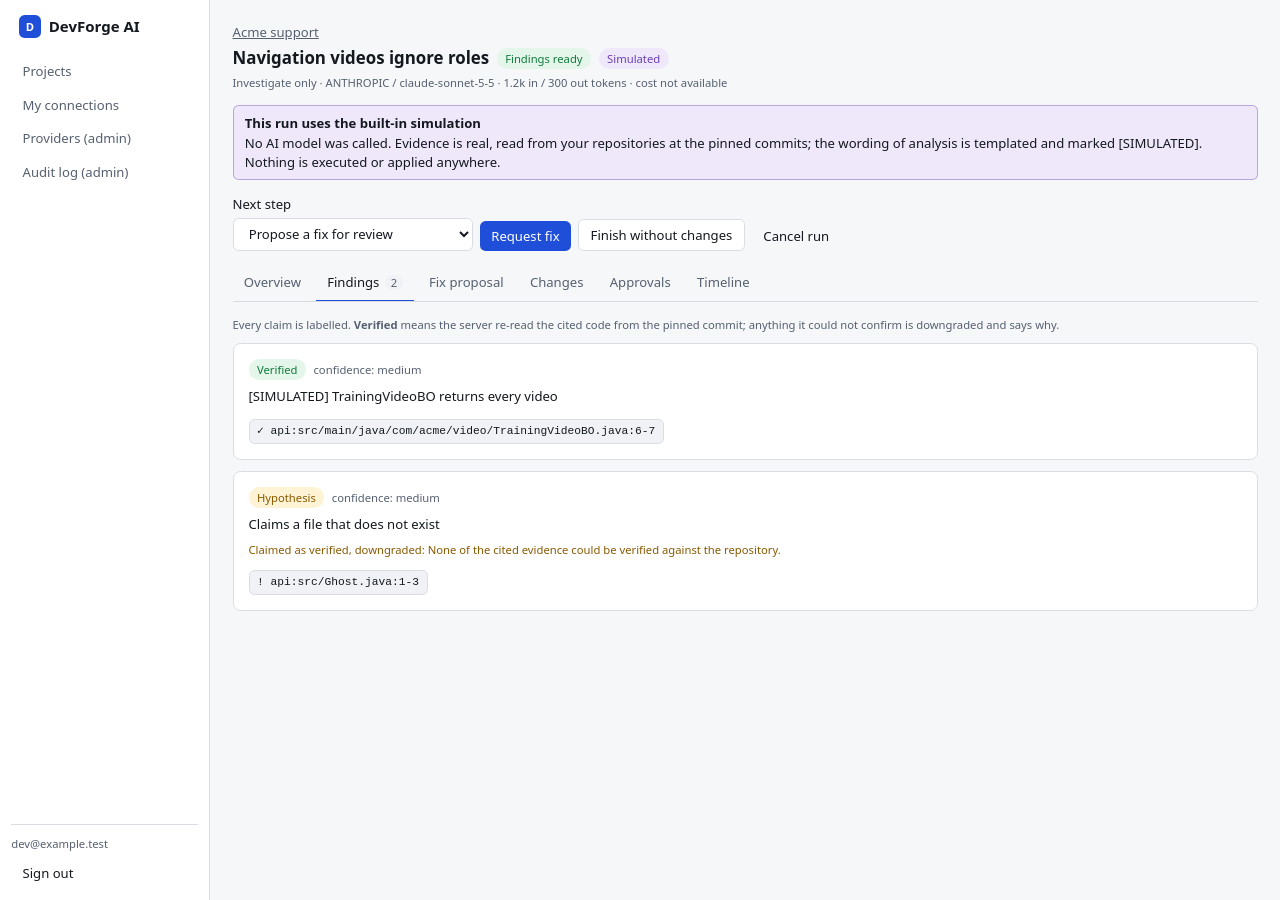
Test: Run page › labels every finding and opens the cited code with its verification status
Expected: the 2nd text titled "backed by code the server re-read" reads "Verified", [257,362,298,377]
Expected: the text titled "a guess; not confirmed" reads "Hypothesis", [257,490,316,505]
What coordinates should you click on to do the following:
click the button named "confirmed: api:src/main/java/com/acme/video/trainingvideobo.java:6-7"
I would click on:
 (456, 432)
Its box is [248,419,664,444].
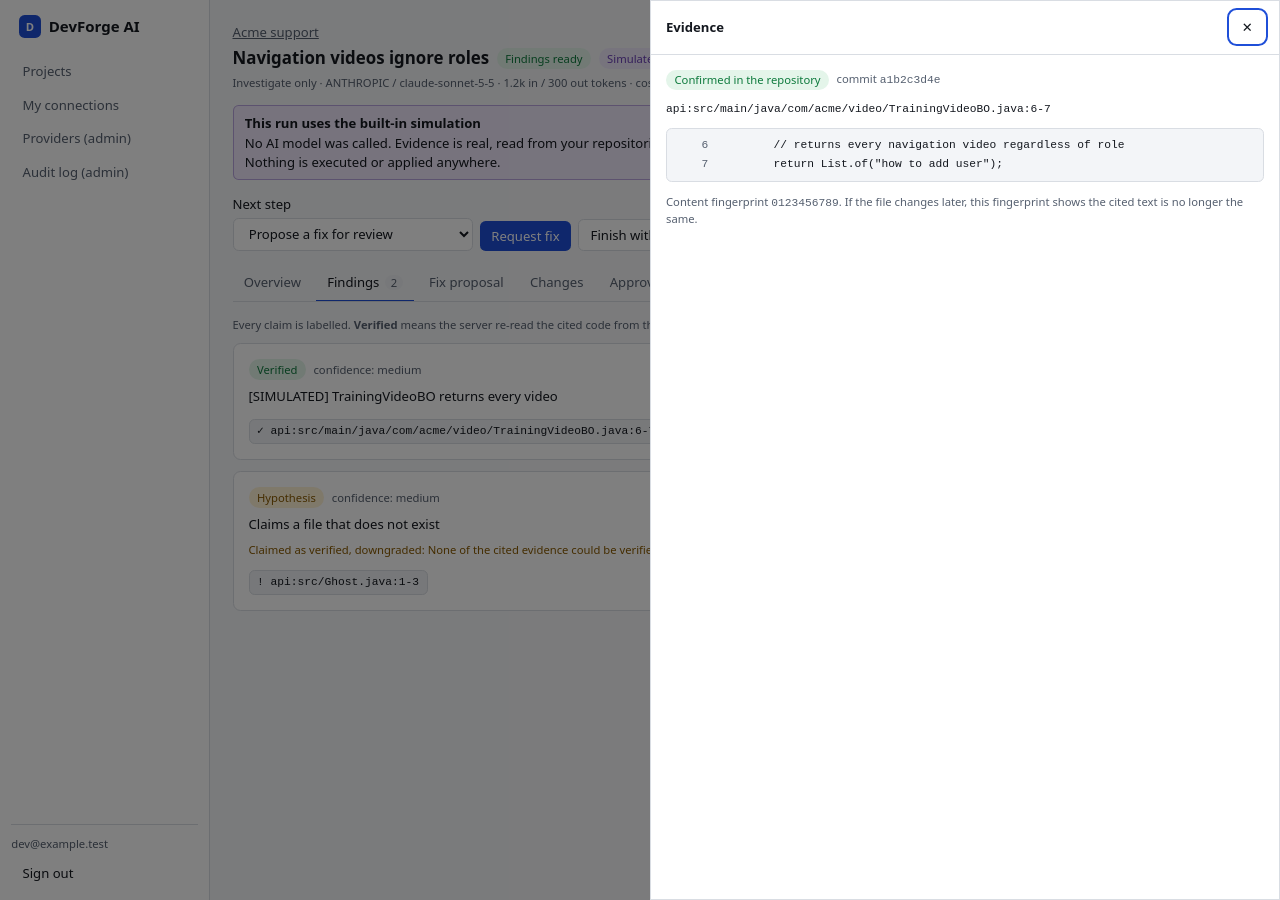
Now the text "Confirmed in the repository" is shown, box [666,70,829,90]
Now the text "6 // returns every navigation video regardless of role" is shown, box [702,139,1125,151]
Now the text "6" is shown, box [702,139,708,151]
What coordinates should you click on to do the following:
click the button named "Close"
I would click on:
 (1247, 27)
Its box is [1230,12,1264,42].
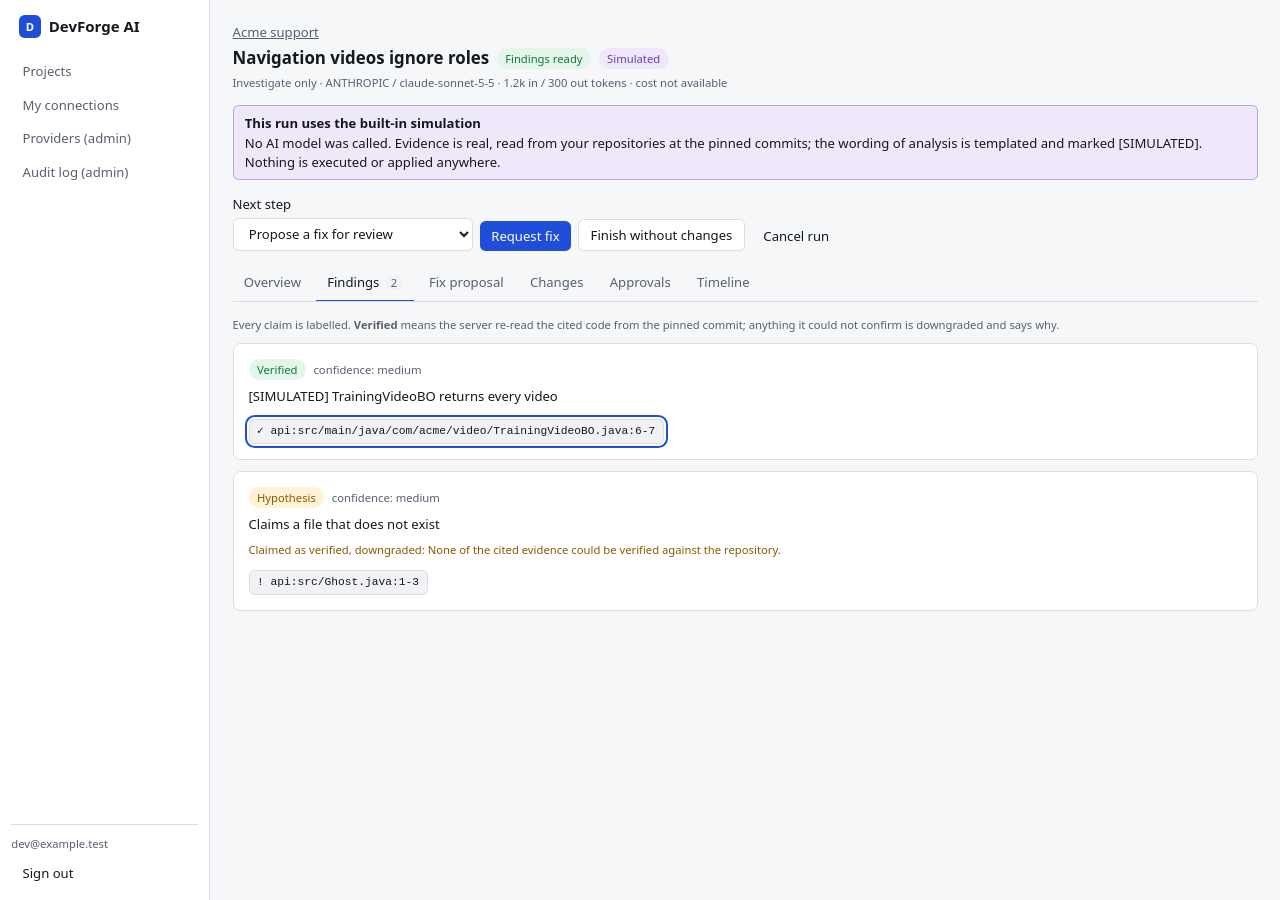
What coordinates should you click on to do the following:
click the button named "not confirmed: api:src/ghost.java:1-3"
I would click on:
 (338, 582)
Its box is [248,570,428,595].
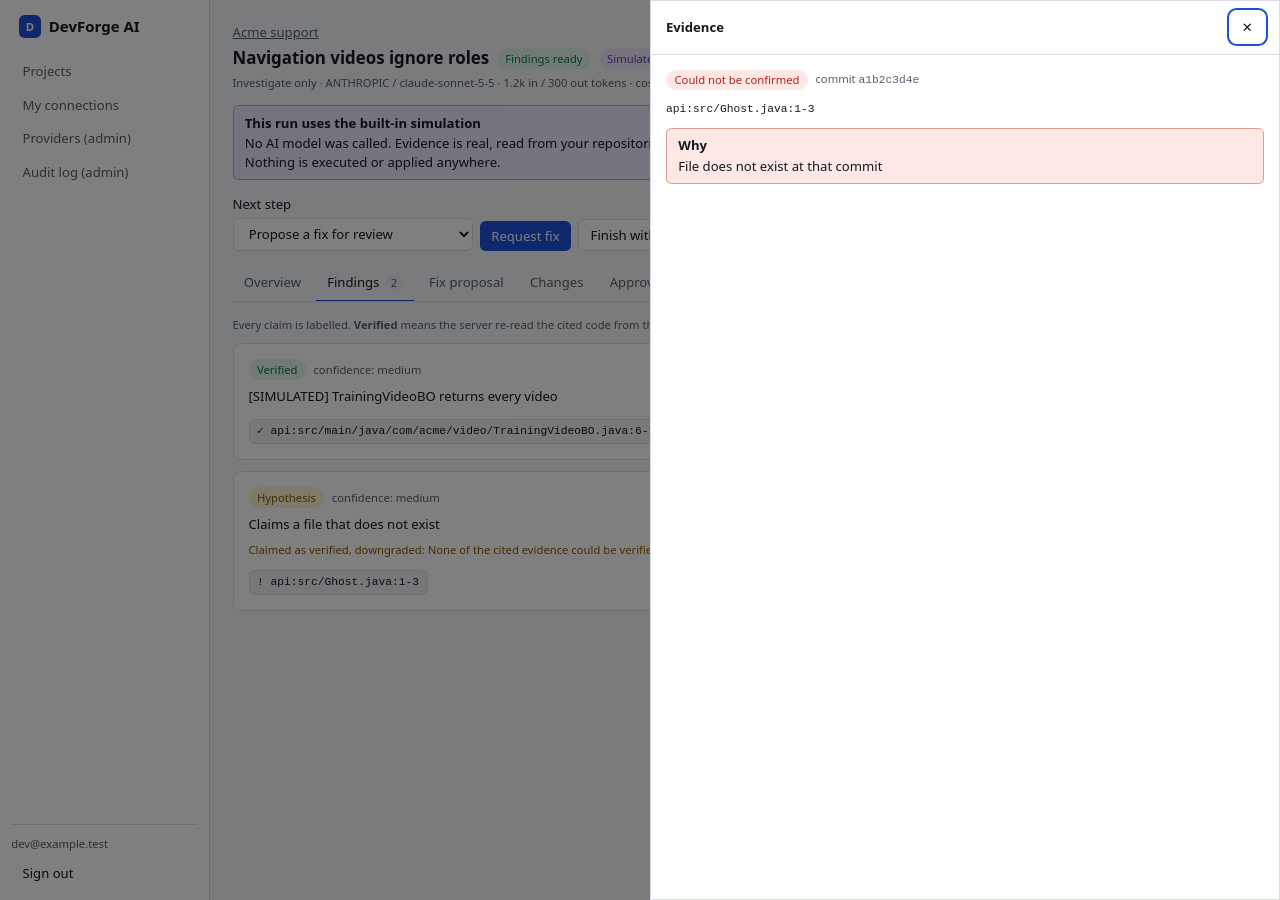
Now the text "Could not be confirmed" is shown, box [666,70,808,90]
Now the text "File does not exist at that commit" is shown, box [678,157,882,175]
